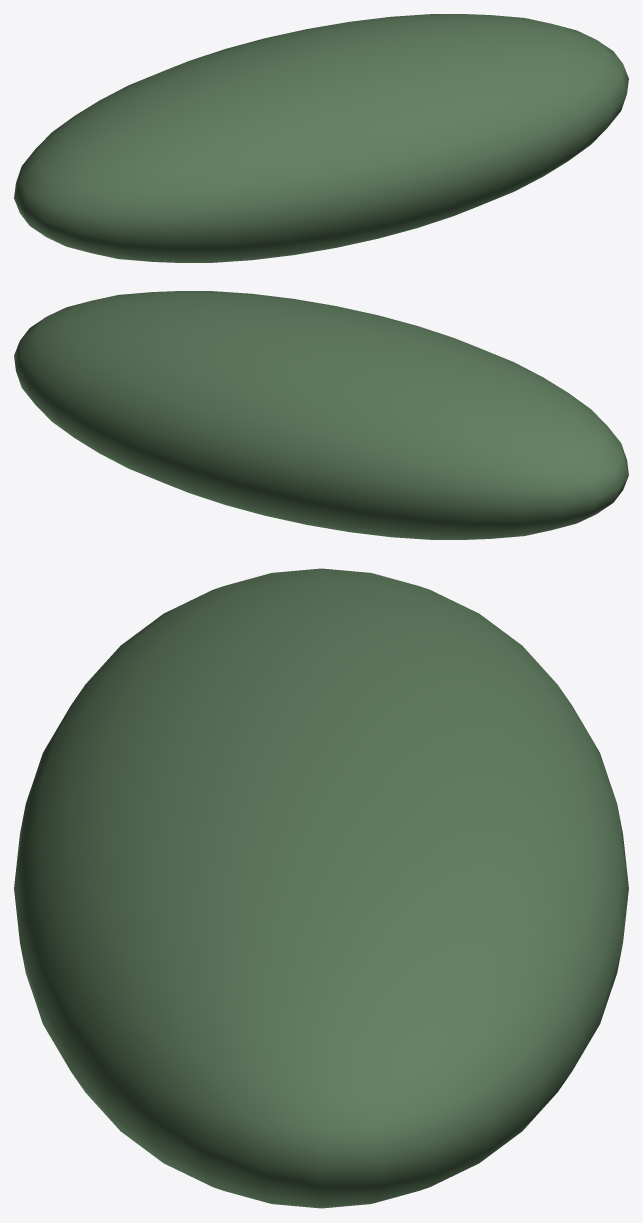
File: ORI-30.glb
3 views of the same model, one above another, from view 1: azimuth 30°, elevation 25°; view 2: azimuth 150°, elevation 25°; view 3: azimuth 270°, elevation 25° (orthographic). The views are drawn at different scales.
Size of the model in its own units: 0.06 by 0.016 by 0.028.
